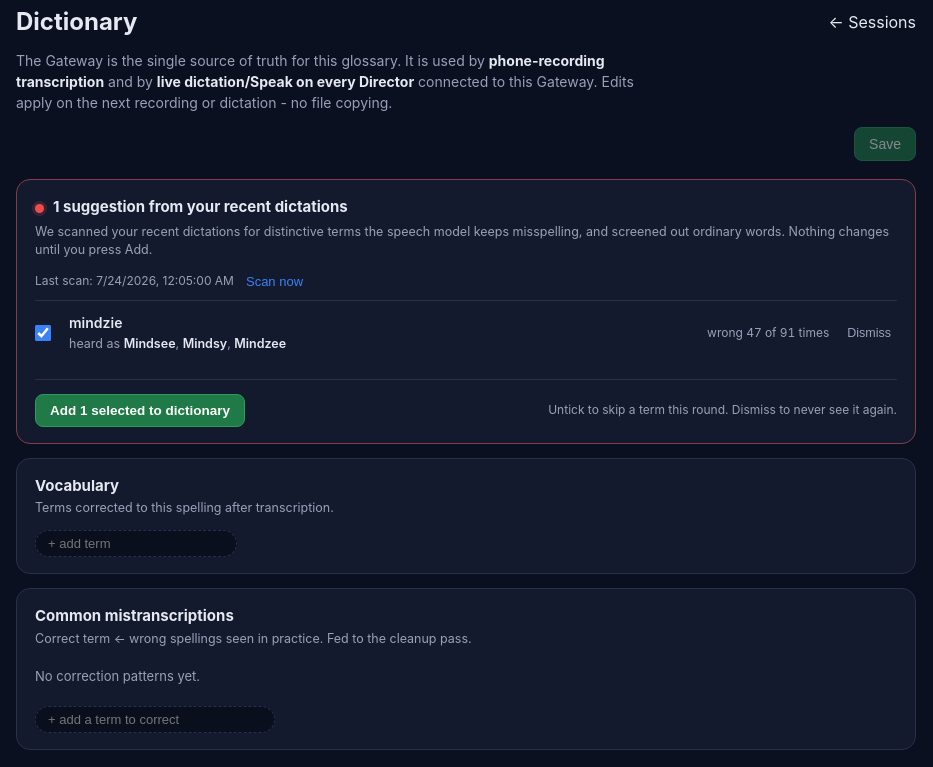
DictionaryView suggestions panel › unticking a term drops it from the add count
This screenshot has width=933, height=767.
Expected: the text "mindzie" is shown, [69,314,122,331]
Click the checkbox named "Add mindzie".
click(43, 333)  # box [35,325,51,341]
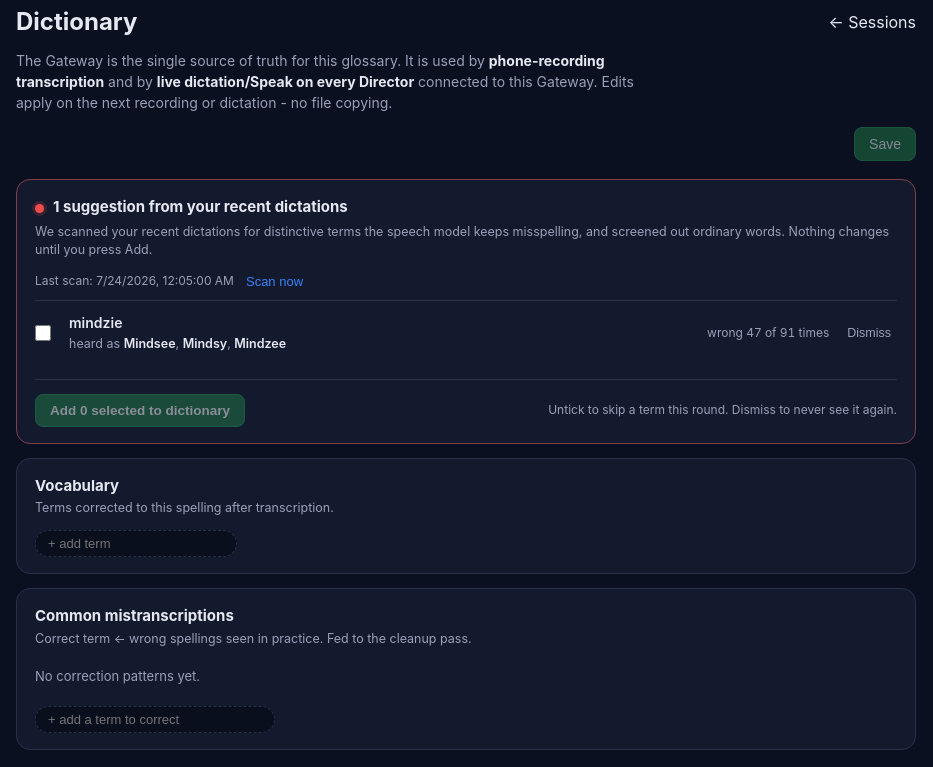
Result: the button "Add 0 selected to dictionary" is shown at [35,394,245,427]
